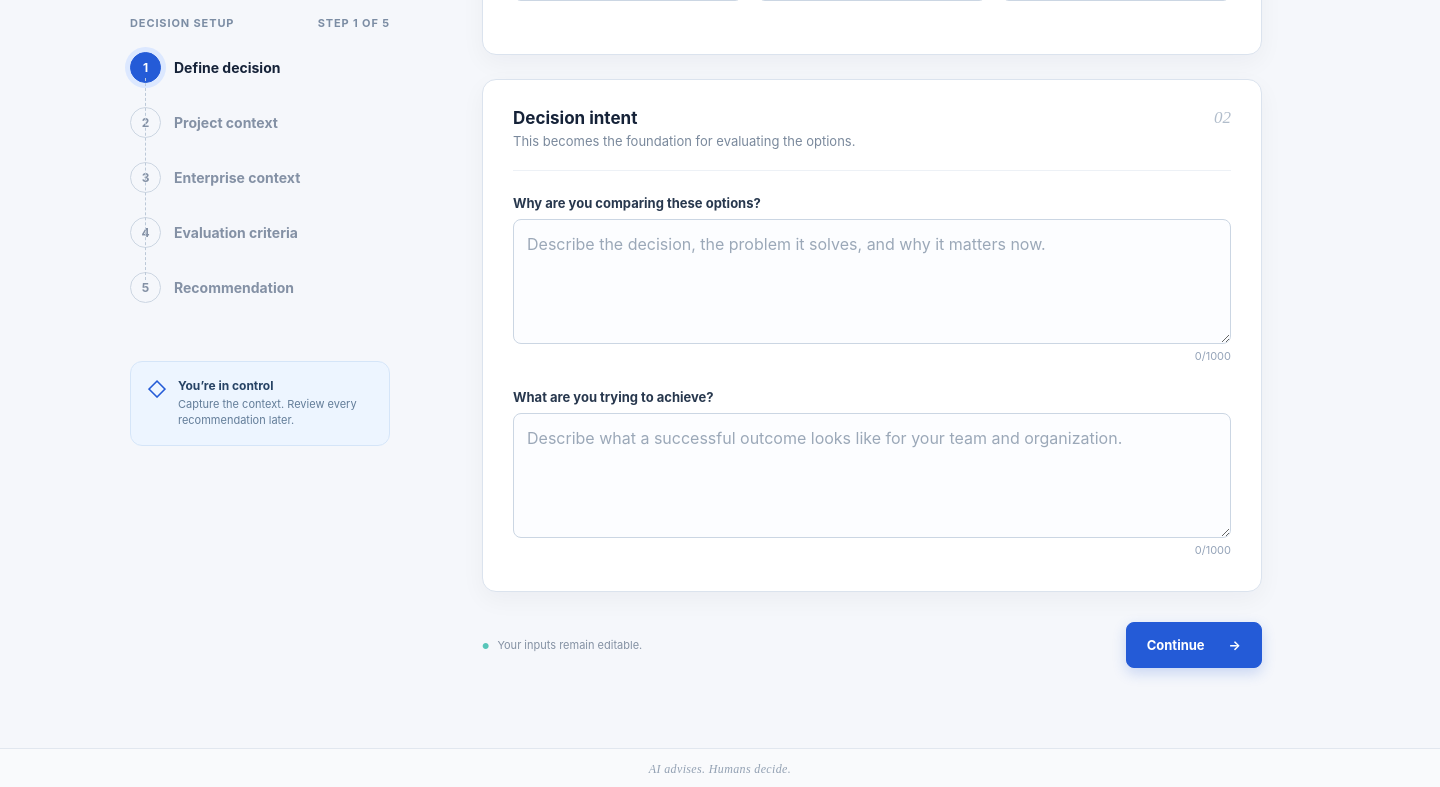
Test: decision setup flow › shows accessible validation and stays on the first step
The image size is (1440, 787).
(page scrolled)
Click the button "Continue →".
click(1194, 645)  # box [1126,622,1262,668]
(page scrolled)
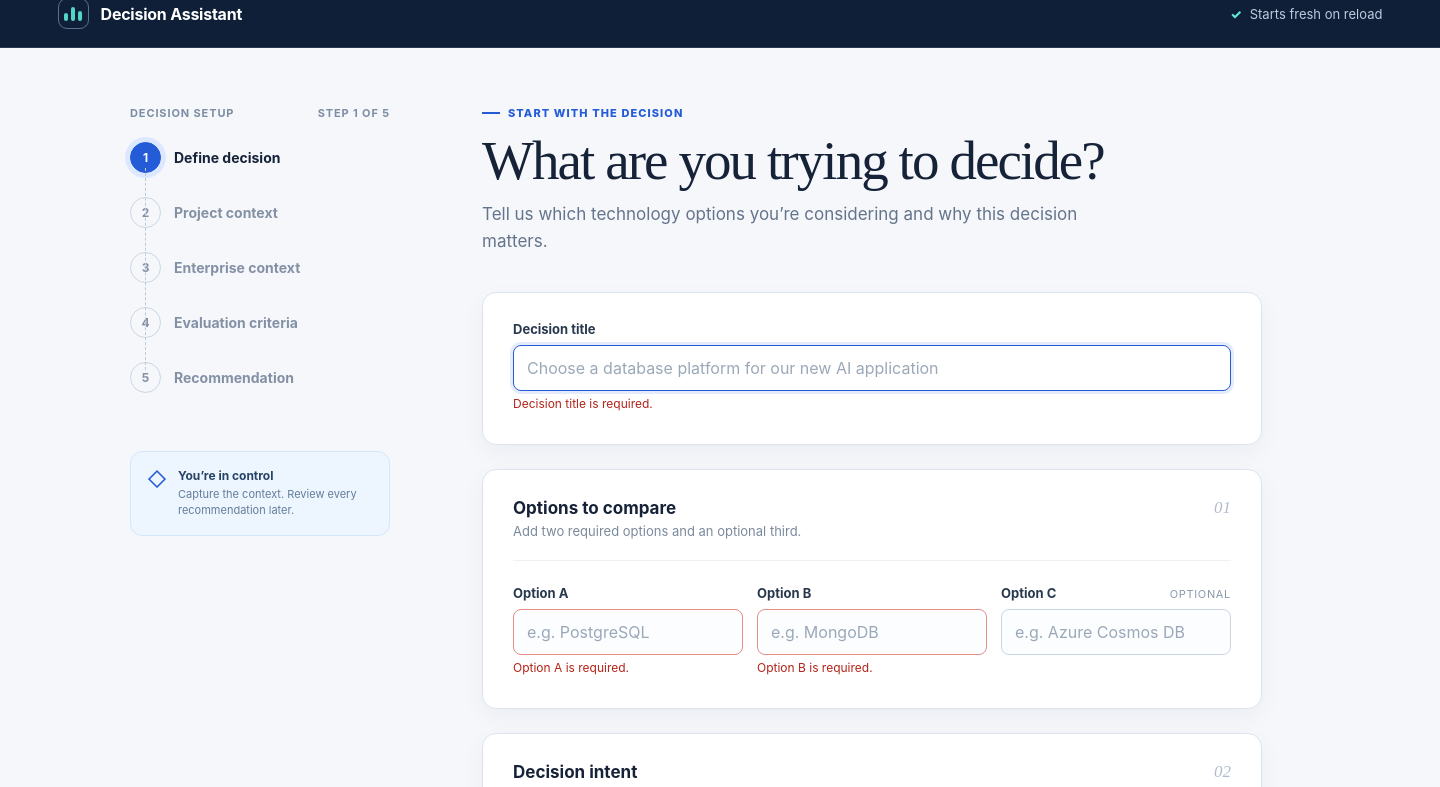
Expected: the heading "What are you trying to decide?" is shown, [482,130,1104,191]
Result: the text "Decision title is required." is shown at [513,396,653,412]
